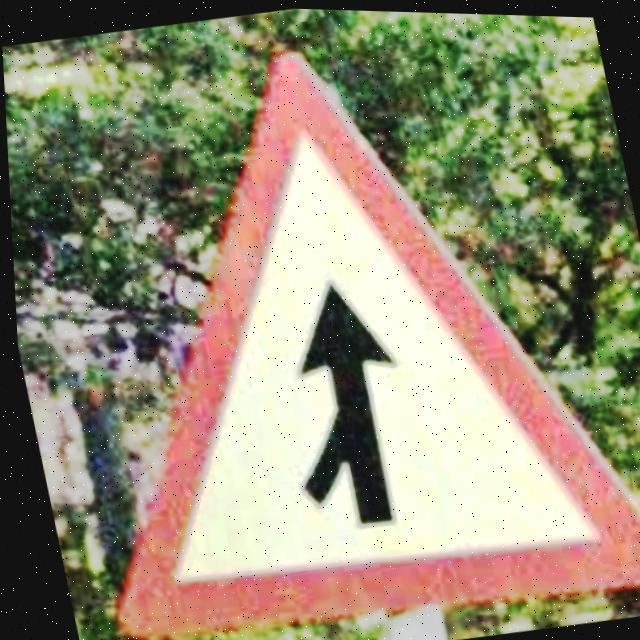leftmerge: (113, 52, 640, 639)
